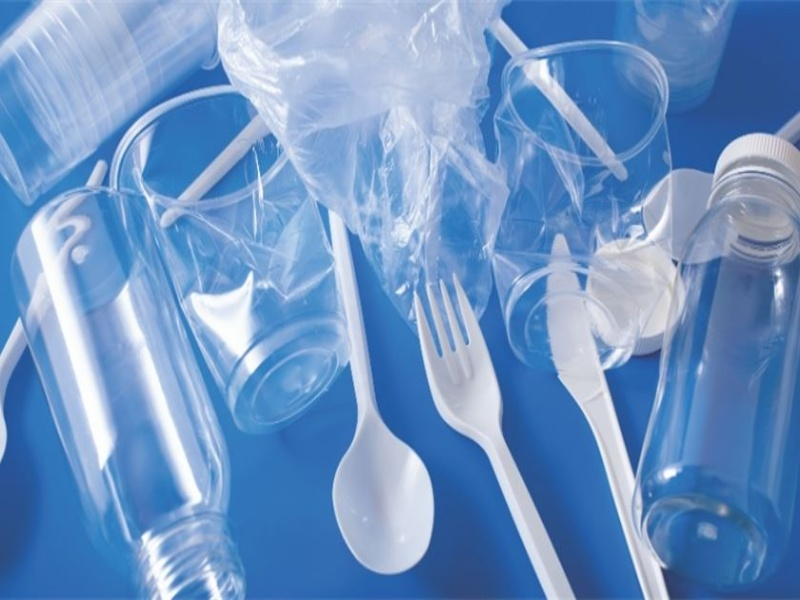Plastic_utencil_NonBioD: (3, 4, 797, 596)
